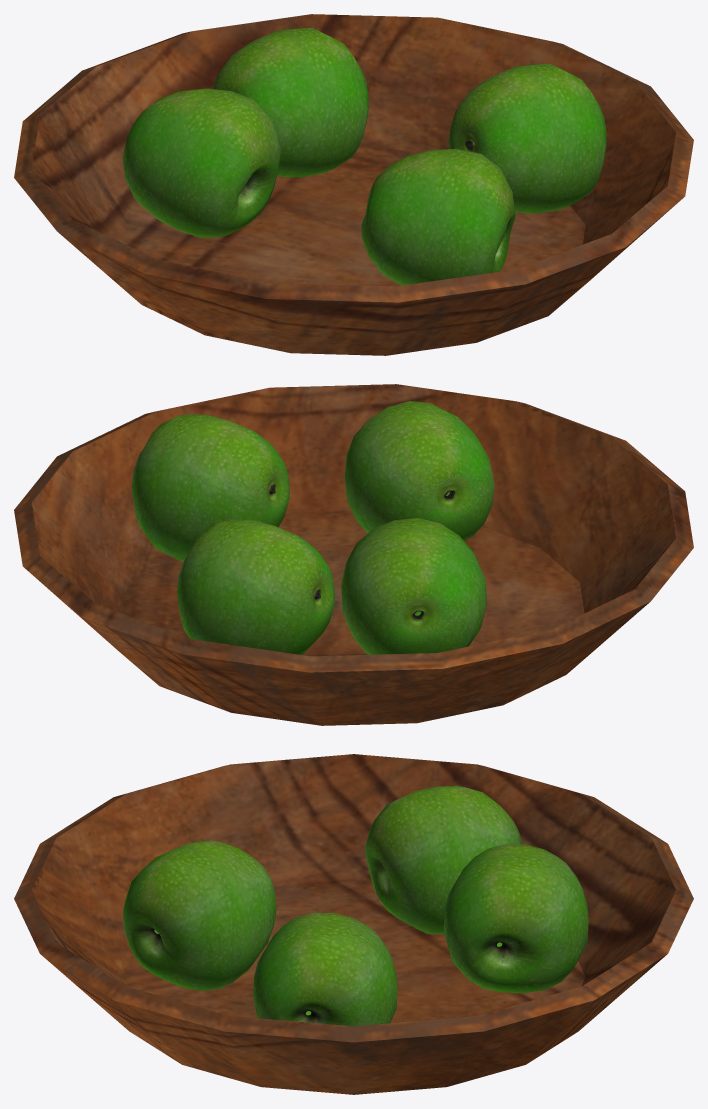
Rendered from G_basket_Apple.FBX.
3 views of the same model, one above another, from view 1: azimuth 30°, elevation 25°; view 2: azimuth 150°, elevation 25°; view 3: azimuth 270°, elevation 25° (orthographic).
Visible parts, largest first — view 1: Basket_Appels; view 2: Basket_Appels; view 3: Basket_Appels.
Boxes of the visible parts, x1=… form: Basket_Appels: x1=14, y1=14, x2=693, y2=355; Basket_Appels: x1=14, y1=384, x2=693, y2=725; Basket_Appels: x1=14, y1=754, x2=693, y2=1094.
Size of the model in its own units: 337 by 83.37 by 337.
Materials: 1 (1 with a texture image).
